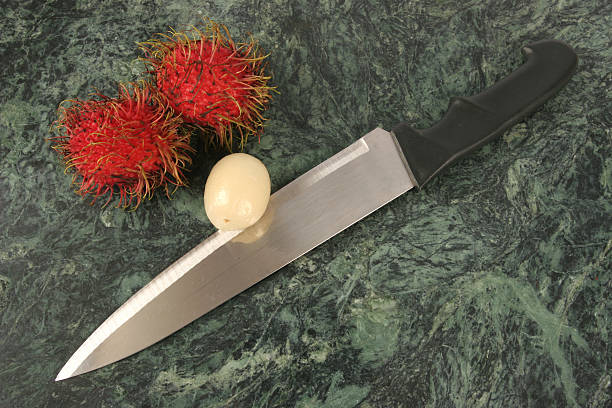knife: (51, 35, 580, 383)
